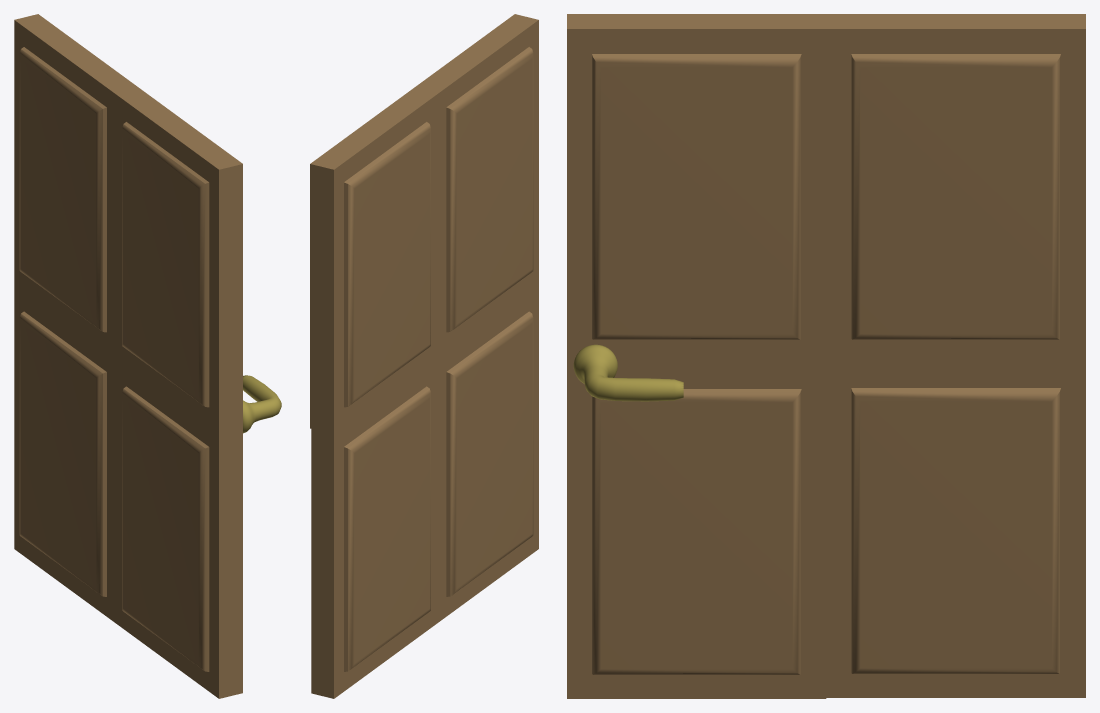
Rendered from door.fbx.
The picture shows the model from 3 angles, left to right: view 1: azimuth 30°, elevation 25°; view 2: azimuth 150°, elevation 25°; view 3: azimuth 270°, elevation 25°; orthographic projection. The views are drawn at different scales.
Parts seen in each view (by area): view 1: polySurface692; view 2: polySurface692; view 3: polySurface692.
Part boxes in pixels (x1,y1,x2,y2): polySurface692: [14, 14, 281, 698]; polySurface692: [310, 14, 538, 698]; polySurface692: [567, 14, 1085, 698].
Bounding box in the file's own units: 54.77 × 321 × 225.
